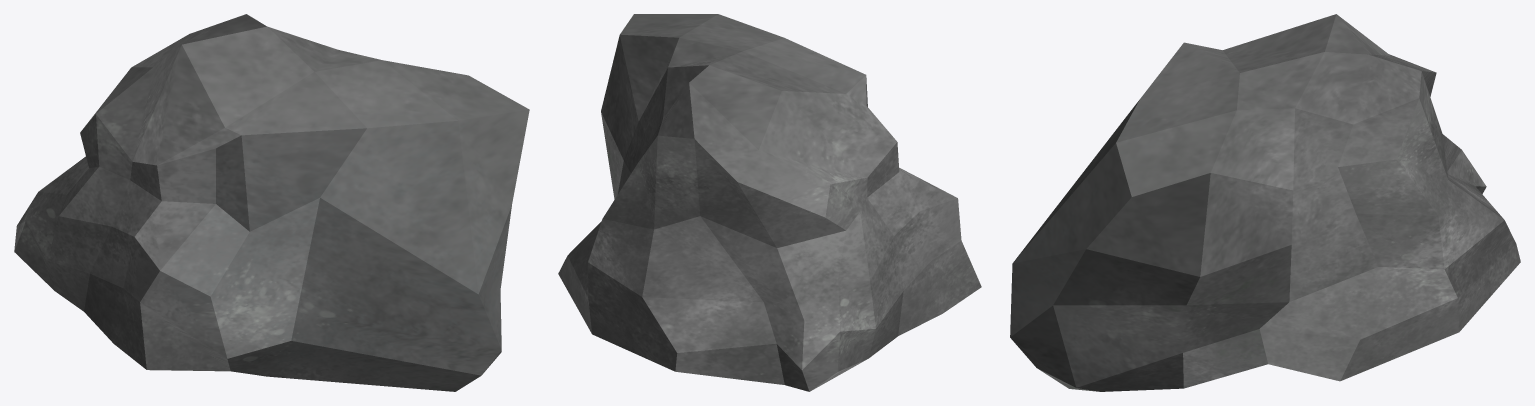
The model's file is Stein1.fbx.
3 renders of one model, left to right at view 1: azimuth 30°, elevation 25°; view 2: azimuth 150°, elevation 25°; view 3: azimuth 270°, elevation 25°, orthographic. The views are drawn at different scales.
Parts seen in each view (by area): view 1: Cube.003; view 2: Cube.003; view 3: Cube.003.
Part boxes in pixels (x1,y1,x2,y2): Cube.003: (14,14,529,391); Cube.003: (558,14,981,391); Cube.003: (1010,14,1520,391).
Size of the model in its own units: 306 by 230 by 351.
